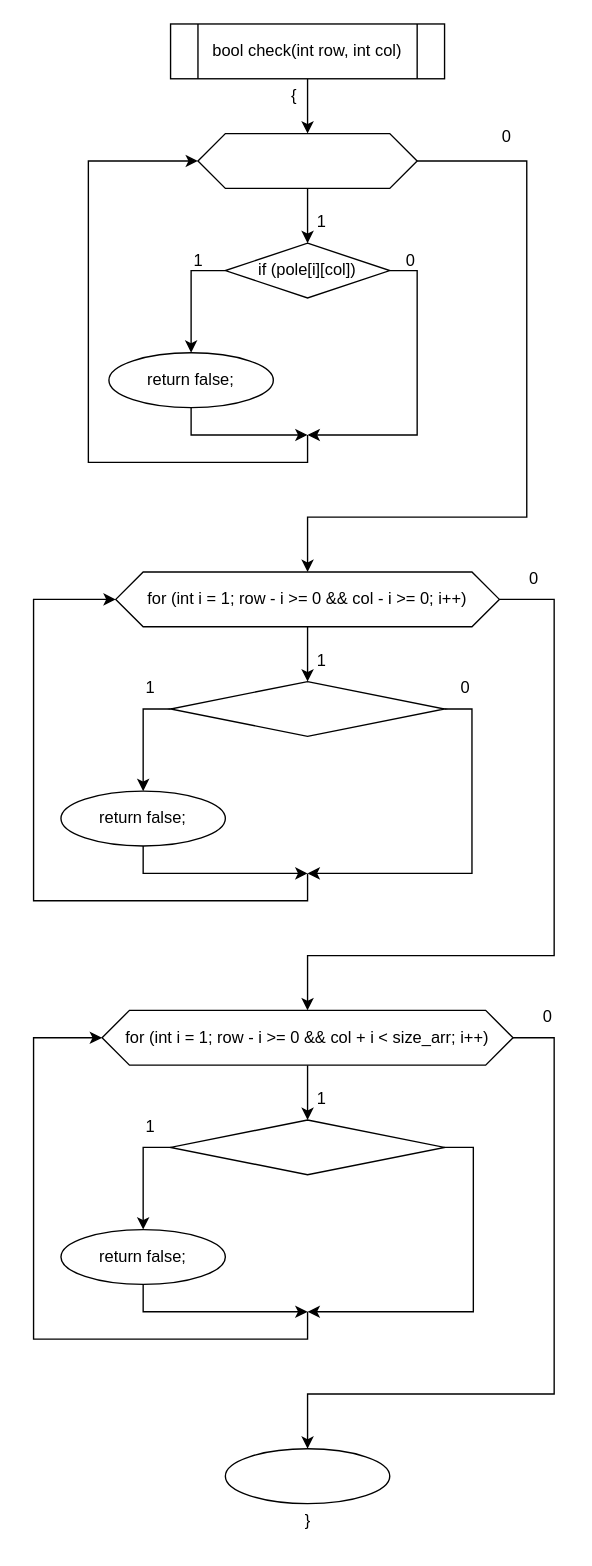
This 592x1566 diagram has some shape labels left out. The centre of each missing label's shape, as x and y in pixels:
for (int i = 0; i < row; i++): (x=307, y=160)
if (pole[row - i][col + i]): (x=307, y=1147)
if (pole[row - i][col - i]): (x=307, y=708)
return true;: (x=307, y=1475)
